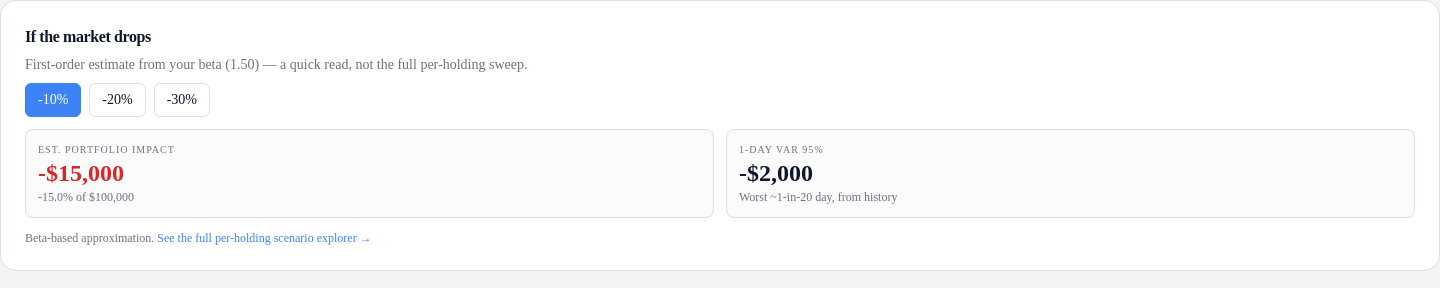
Test: ScoreMiniScenario › recomputes at -30%
Click the button "-30%" at point(182, 100), box [154,83,210,117]
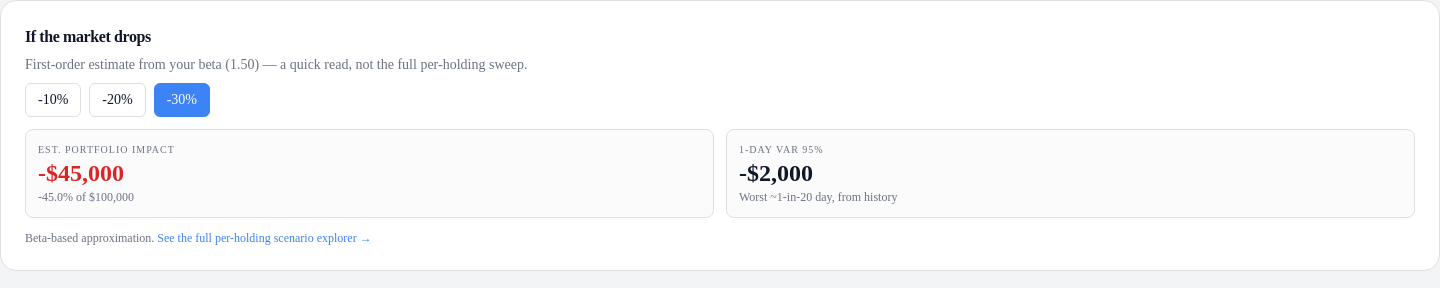
Expected: the text "-$45,000" is shown, [38,160,124,186]
